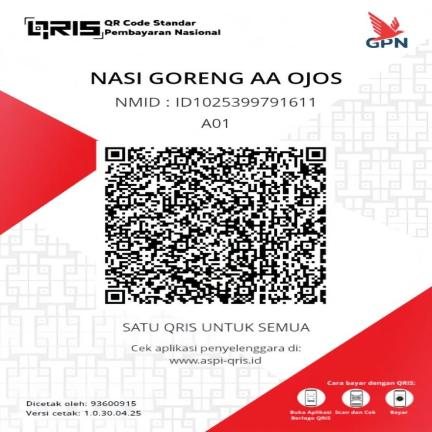Barcode_Asli: (96, 141, 336, 311)
